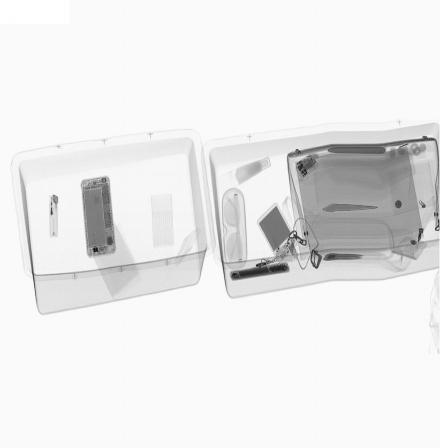Lighter: (49, 192, 59, 237)
